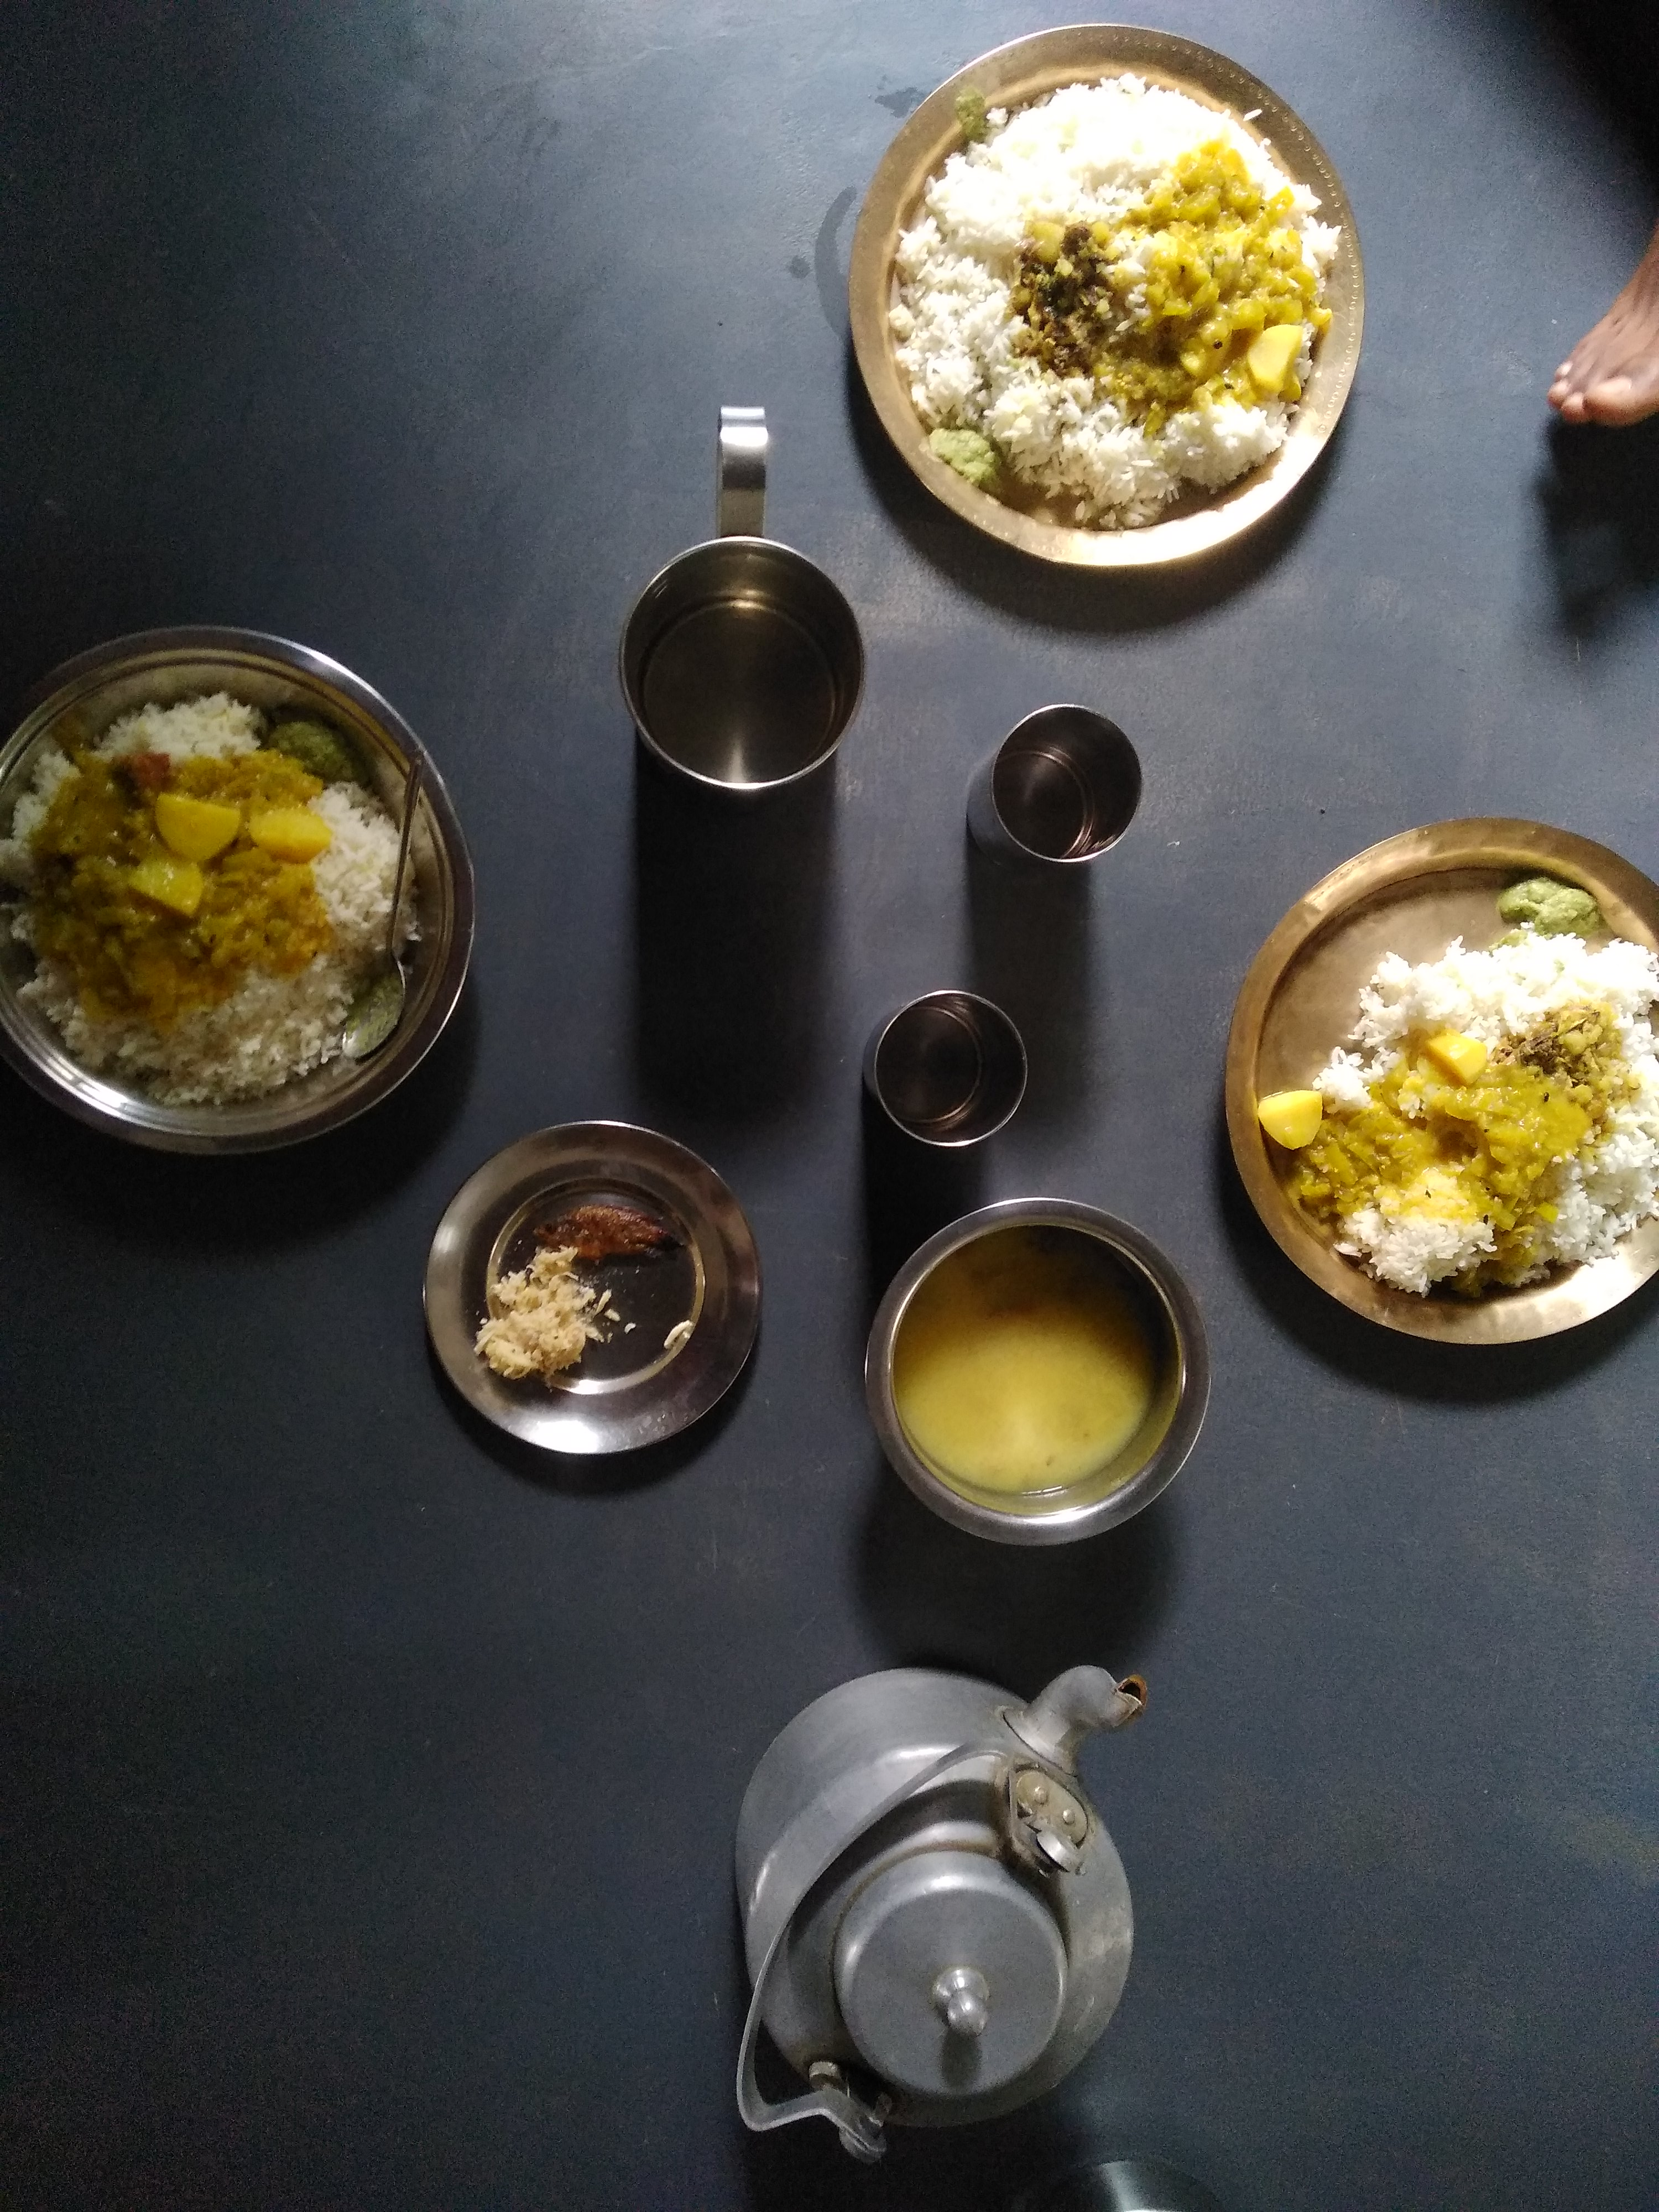food: (873, 57, 1349, 543), (0, 678, 436, 1122), (1246, 864, 1659, 1312), (894, 1224, 1187, 1508), (467, 1191, 694, 1404)
